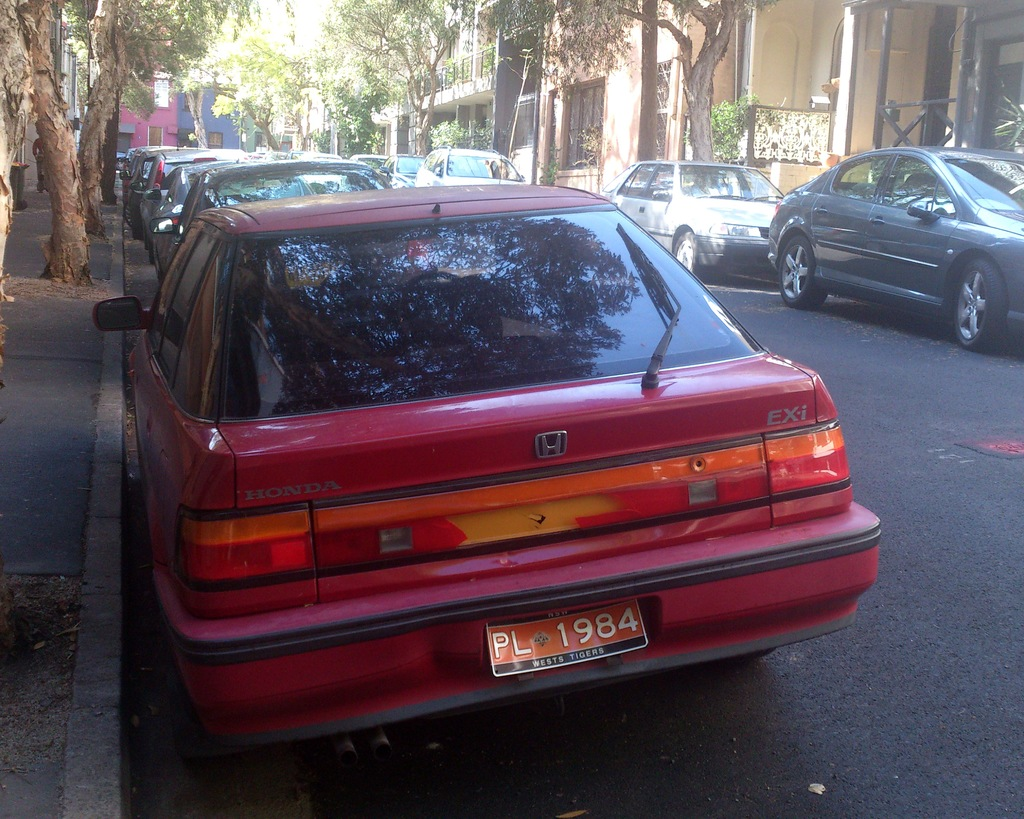Car: (90, 178, 883, 753), (773, 149, 1023, 347), (111, 144, 401, 284), (613, 165, 785, 280), (415, 150, 528, 186)
